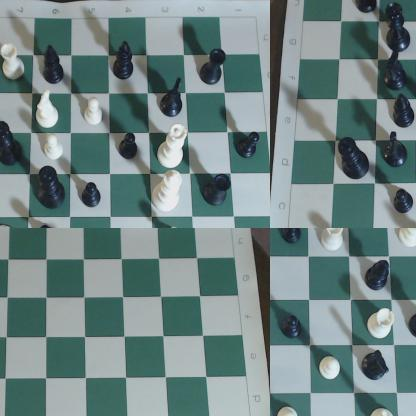black-bishop: (40, 42, 71, 87), (390, 92, 416, 133), (113, 43, 138, 84), (365, 257, 392, 291)
black-king: (35, 164, 71, 212), (337, 134, 372, 183)
black-knight: (384, 48, 415, 91), (382, 132, 411, 175), (160, 80, 188, 121), (361, 349, 389, 381)
black-pawn: (76, 179, 105, 213), (238, 132, 267, 166), (388, 190, 416, 216), (118, 133, 141, 162), (281, 316, 304, 340), (281, 229, 305, 245), (37, 221, 61, 228)
black-queen: (383, 1, 416, 54), (1, 118, 25, 169)
black-rook: (200, 48, 229, 90), (203, 173, 234, 211), (347, 1, 380, 18), (409, 306, 416, 341)
white-bishop: (399, 229, 416, 250)
white-king: (151, 170, 187, 213)
white-knight: (36, 89, 63, 132), (369, 407, 403, 416)
white-pawn: (79, 96, 113, 135), (45, 132, 74, 168), (320, 357, 342, 383), (277, 407, 300, 416)
white-queen: (158, 126, 189, 169)
white-rook: (1, 39, 31, 84), (369, 307, 397, 340), (322, 229, 346, 253)
